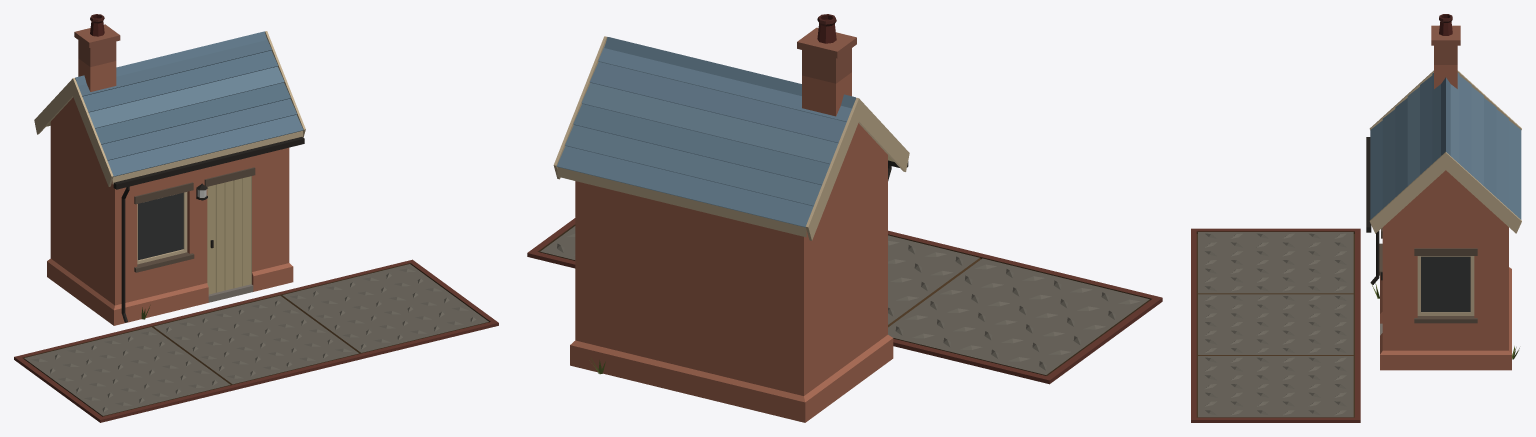
File: goods-yard-weighbridge-c5c04c.glb
3 views of the same model, side by side, from view 1: azimuth 30°, elevation 25°; view 2: azimuth 150°, elevation 25°; view 3: azimuth 270°, elevation 25° (orthographic). The views are drawn at different scales.
Parts seen in each view (by area): view 1: weighbridge, door-leaf; view 2: weighbridge; view 3: weighbridge.
Part boxes in pixels (<box>): weighbridge: <box>14,14,498,422</box>; door-leaf: <box>207,176,251,294</box>; weighbridge: <box>527,14,1162,422</box>; weighbridge: <box>1191,14,1521,422</box>.
Bounding box in the file's own units: 8 × 5.38 × 5.85.
